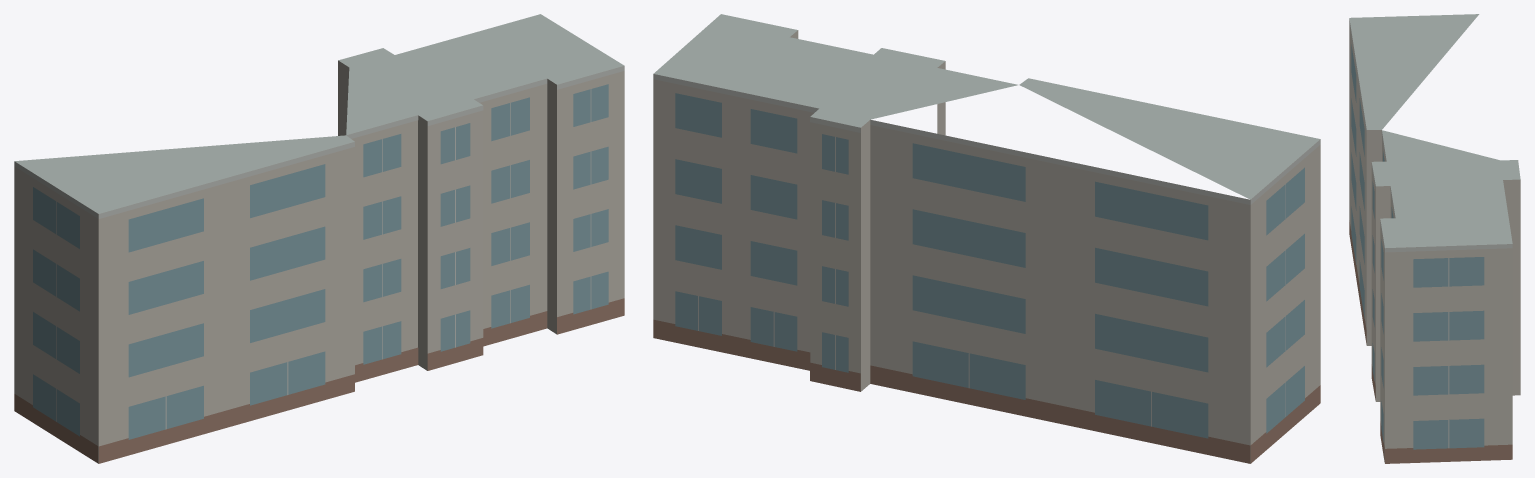
The model's file is survey-upis-32749175.glb.
3 renders of one model, left to right at view 1: azimuth 30°, elevation 25°; view 2: azimuth 150°, elevation 25°; view 3: azimuth 270°, elevation 25°, orthographic. The views are drawn at different scales.
Parts seen in each view (by area): view 1: survey-upis-32749175.tmp; view 2: survey-upis-32749175.tmp; view 3: survey-upis-32749175.tmp.
Part boxes in pixels (box(x1,y1,x2,y2)): survey-upis-32749175.tmp: box(14, 14, 624, 463); survey-upis-32749175.tmp: box(653, 14, 1320, 463); survey-upis-32749175.tmp: box(1349, 14, 1520, 463).
Size of the model in its own units: 28.17 by 12.1 by 8.71.
